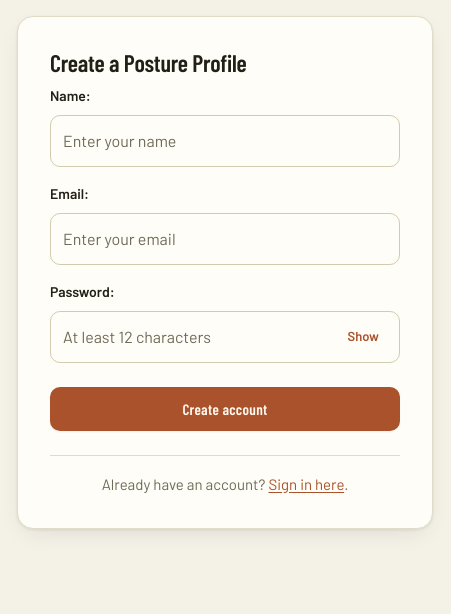
it: Registration › rejects a password under twelve characters, inline
Type "Ada Lovelace" into the field labelled "Name:" at (225, 141), box [50,115,400,167]
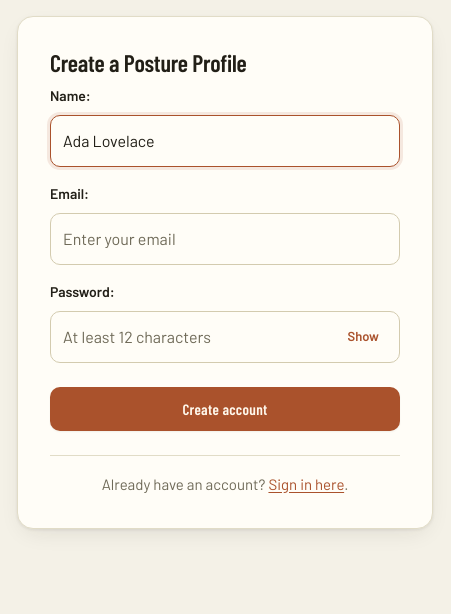
Type "ada@example.com" into the field labelled "Email:" at (225, 239), box [50,213,400,265]
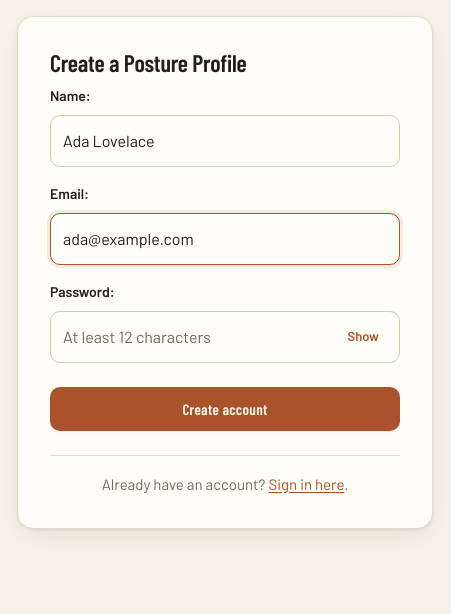
Type "short" into the password field labelled "Password:" at (225, 337), box [50,311,400,363]
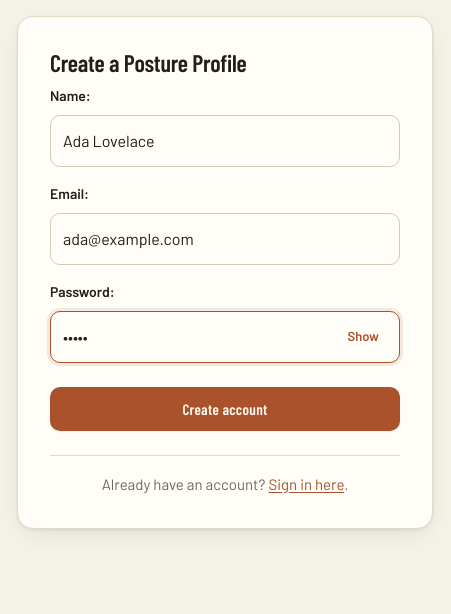
Click the button "Create account" at (225, 408), box [50,386,400,430]
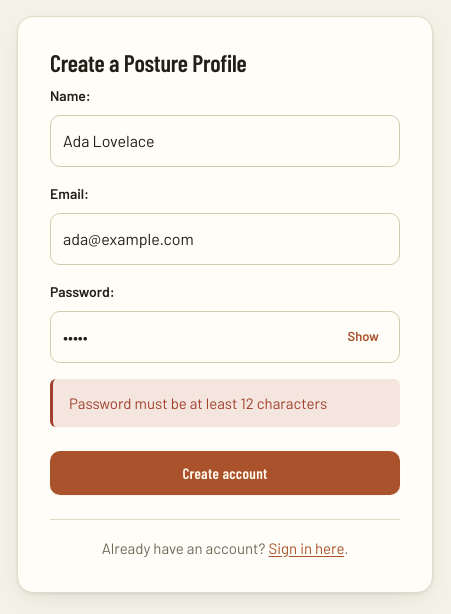
Result: the message shows "at least 12 characters" at [69,394,327,412]
